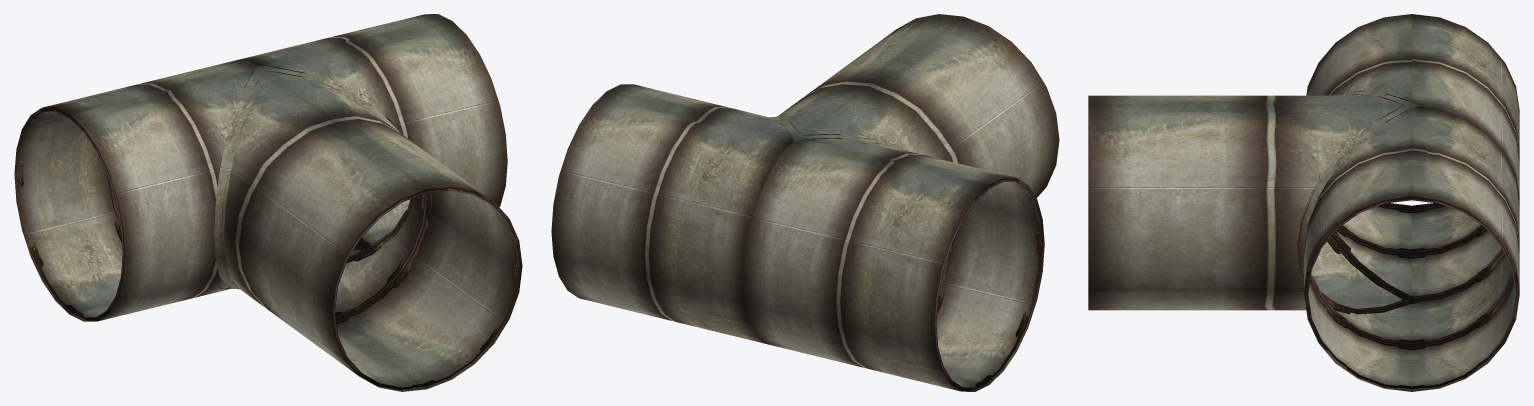
Rendered from pump_tunnel_02_07_3way.dae.
The picture shows the model from 3 angles, left to right: view 1: azimuth 30°, elevation 25°; view 2: azimuth 150°, elevation 25°; view 3: azimuth 270°, elevation 25°; orthographic projection. The views are drawn at different scales.
Visible parts, largest first — view 1: polySurface807; view 2: polySurface807; view 3: polySurface807.
Part boxes in pixels (x1=…): polySurface807: x1=14, y1=14, x2=522, y2=391; polySurface807: x1=551, y1=14, x2=1059, y2=391; polySurface807: x1=1088, y1=14, x2=1519, y2=391.
Size of the model in its own units: 8 by 4.01 by 8.
